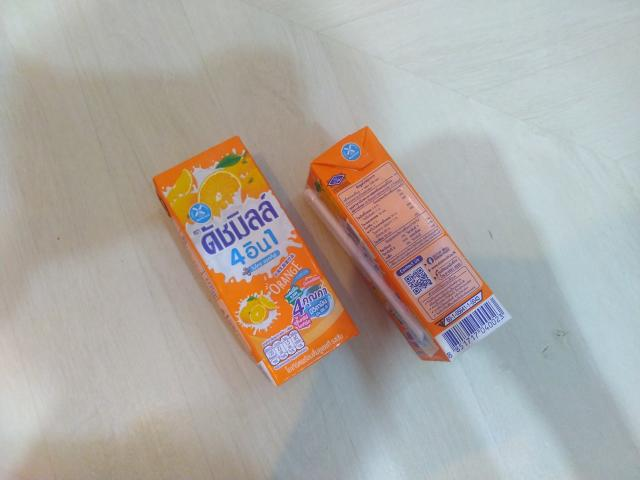drink_box: (144, 125, 377, 398), (283, 117, 523, 374)
